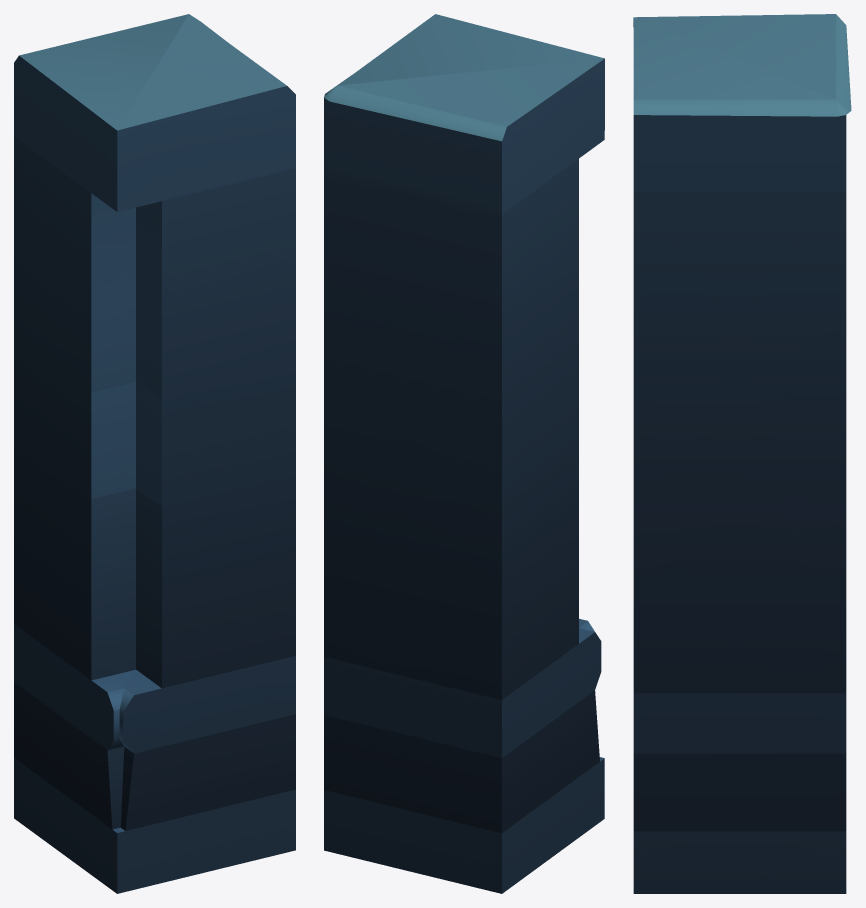
The model's file is wall_corner_conc.fbx.
3 renders of one model, left to right at view 1: azimuth 30°, elevation 25°; view 2: azimuth 150°, elevation 25°; view 3: azimuth 270°, elevation 25°, orthographic. The views are drawn at different scales.
Parts seen in each view (by area): view 1: wall_corner_conc; view 2: wall_corner_conc; view 3: wall_corner_conc.
Part boxes in pixels (x1=…): wall_corner_conc: x1=14, y1=14, x2=295, y2=893; wall_corner_conc: x1=324, y1=14, x2=604, y2=893; wall_corner_conc: x1=633, y1=14, x2=851, y2=893.
Bounding box in the file's own units: 102 × 410 × 102.
